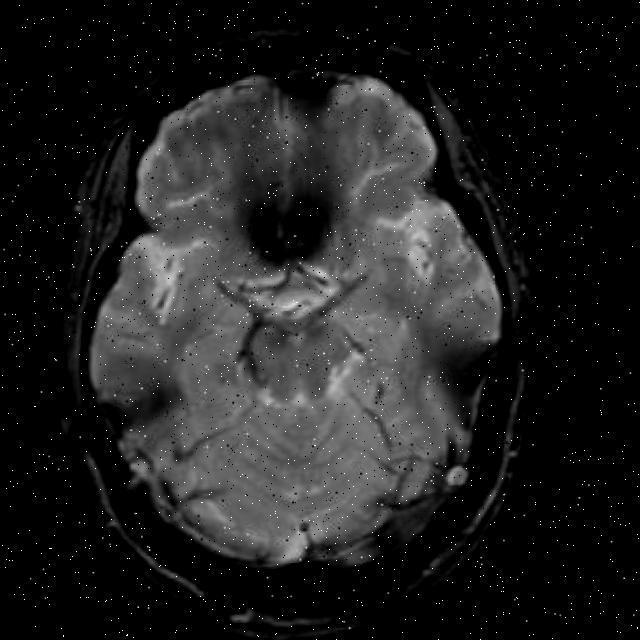EMCI: (206, 146, 380, 258)
